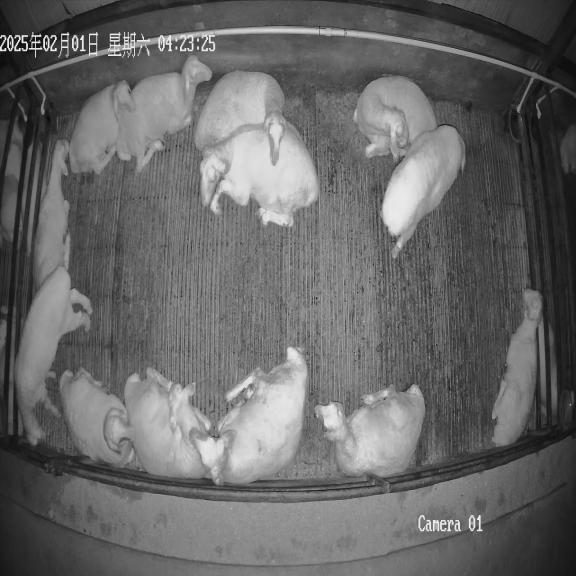lying: (190, 347, 308, 484), (200, 122, 319, 226), (116, 55, 212, 172), (315, 385, 425, 478), (124, 368, 214, 478), (194, 71, 286, 162), (492, 289, 542, 446), (59, 368, 135, 468), (353, 76, 437, 161), (70, 81, 135, 174), (33, 140, 70, 290)
stand: (15, 262, 92, 445), (380, 125, 466, 258)
